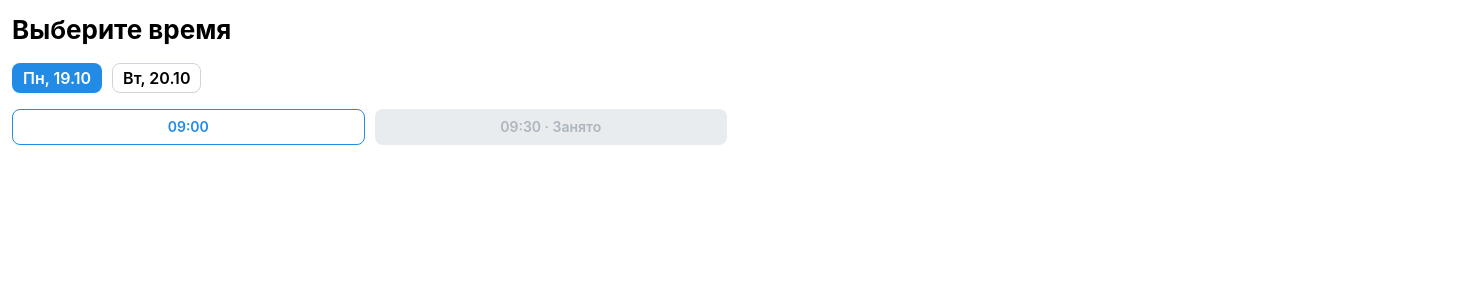
Test: BookSlot › rejects an invalid email
Click the button "09:00" at (188, 127), box [12, 109, 364, 145]
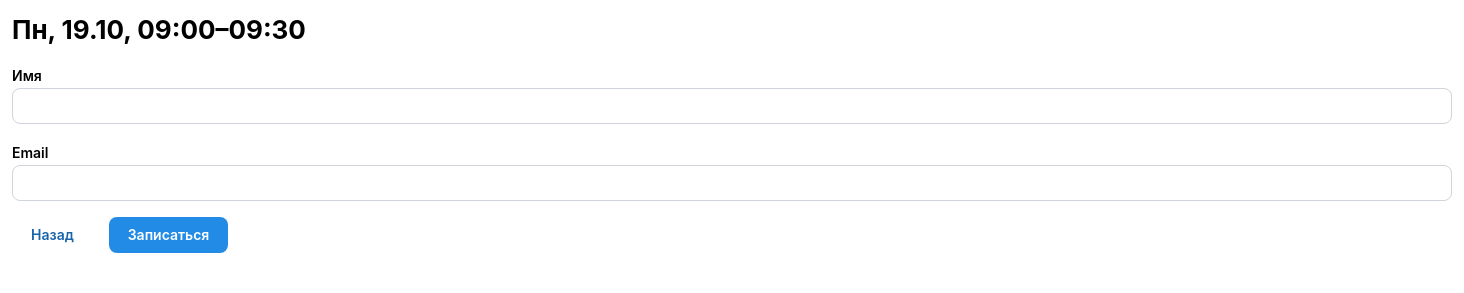
Type "Иван" into the field labelled "Имя" at (732, 106), box [12, 88, 1452, 124]
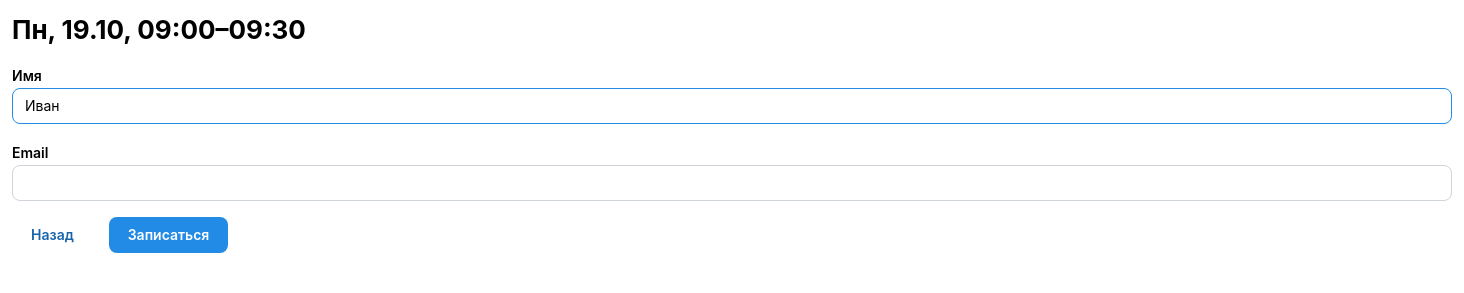
Type "not-an-email" into the field labelled "Email" at (732, 183), box [12, 165, 1452, 201]
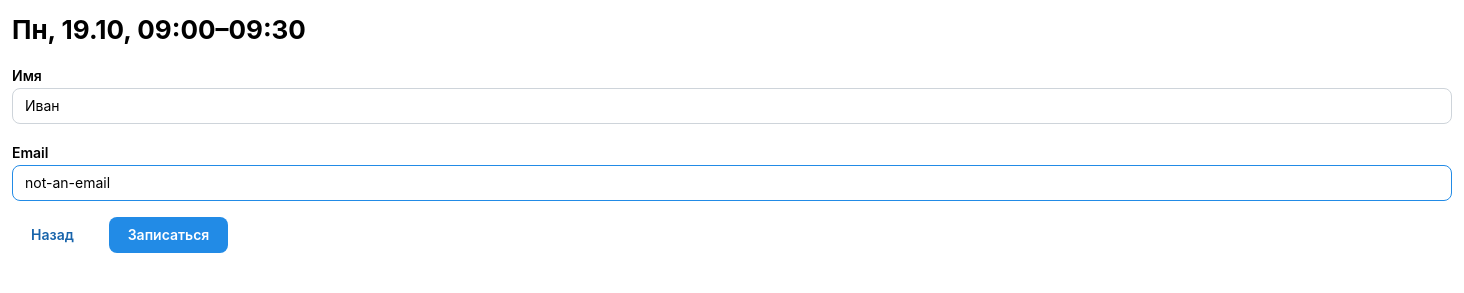
Click the button "Записаться" at (168, 235), box [109, 217, 228, 253]
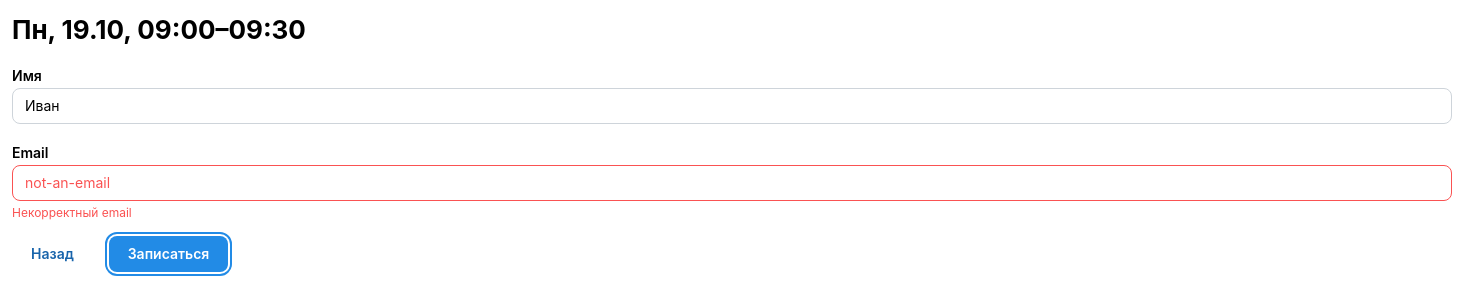
Check: the text "Некорректный email" is shown, box [12, 205, 132, 220]
